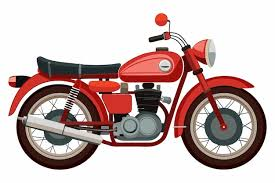motorcycle: (5, 11, 268, 170)
